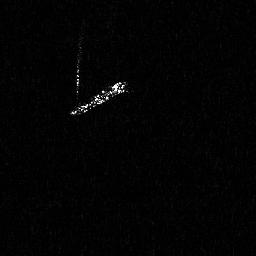ship: (69, 78, 128, 117), (74, 57, 82, 96)
